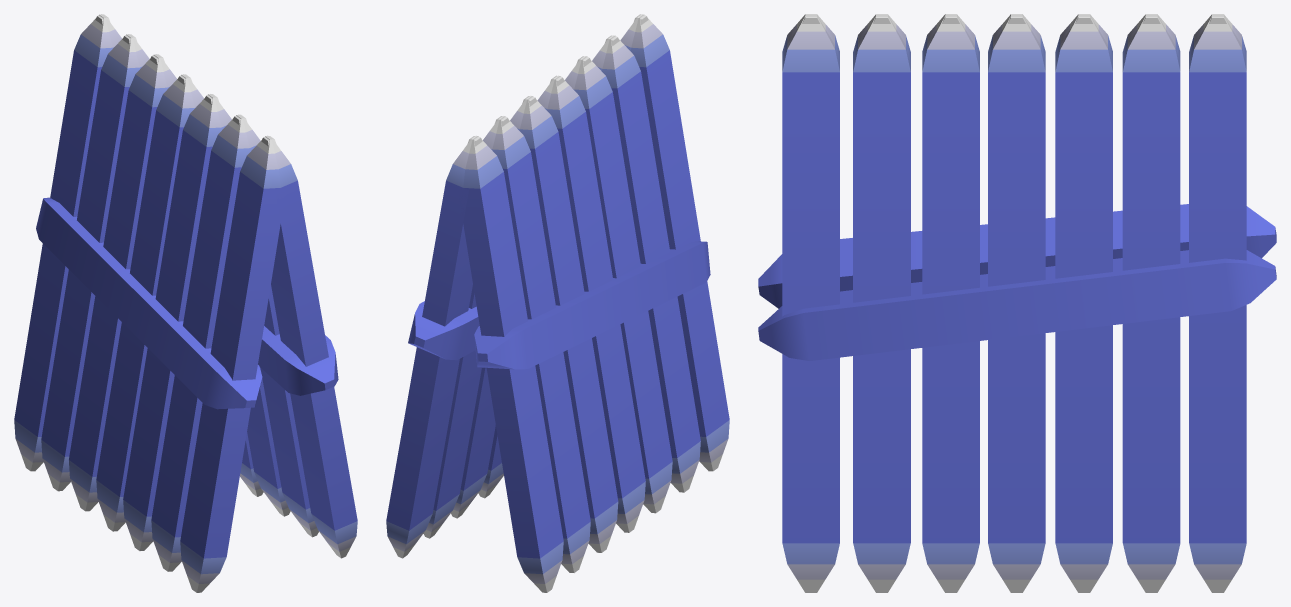
The model's file is fencetype2.fbx.
3 renders of one model, left to right at view 1: azimuth 30°, elevation 25°; view 2: azimuth 150°, elevation 25°; view 3: azimuth 270°, elevation 25°, orthographic. The views are drawn at different scales.
Parts seen in each view (by area): view 1: fence type 2.001; view 2: fence type 2.001; view 3: fence type 2.001.
Boxes of the visible parts, bbox=[...] form: fence type 2.001: bbox=[14, 14, 357, 592]; fence type 2.001: bbox=[386, 14, 729, 592]; fence type 2.001: bbox=[758, 14, 1276, 592].
Bounding box in the file's own units: 1.2 × 3.21 × 2.82.
